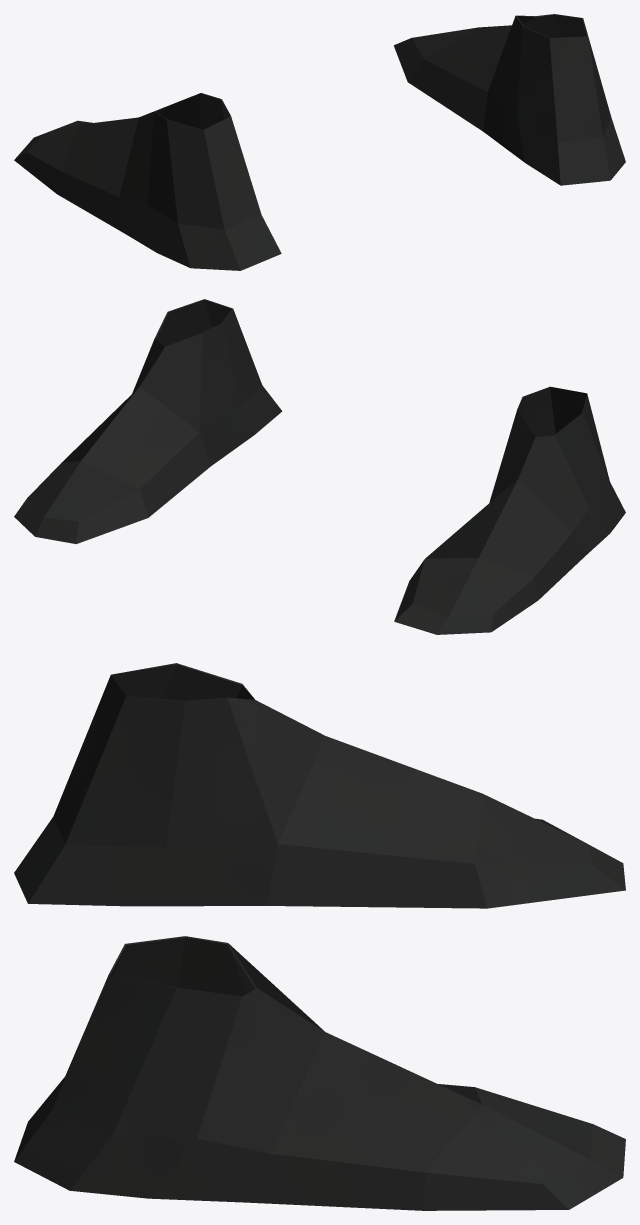
Rendered from Armor_Sabaton.fbx.
3 renders of one model, top to bottom at view 1: azimuth 30°, elevation 25°; view 2: azimuth 150°, elevation 25°; view 3: azimuth 270°, elevation 25°, orthographic. The views are drawn at different scales.
Visible parts, largest first — view 1: Armor_Sabaton; view 2: Armor_Sabaton; view 3: Armor_Sabaton.
Part boxes in pixels (x1,y1,x2,y2): Armor_Sabaton: [14, 14, 625, 270]; Armor_Sabaton: [14, 299, 625, 634]; Armor_Sabaton: [14, 663, 625, 1210].
Size of the model in its own units: 40.28 by 10.21 by 27.73.
